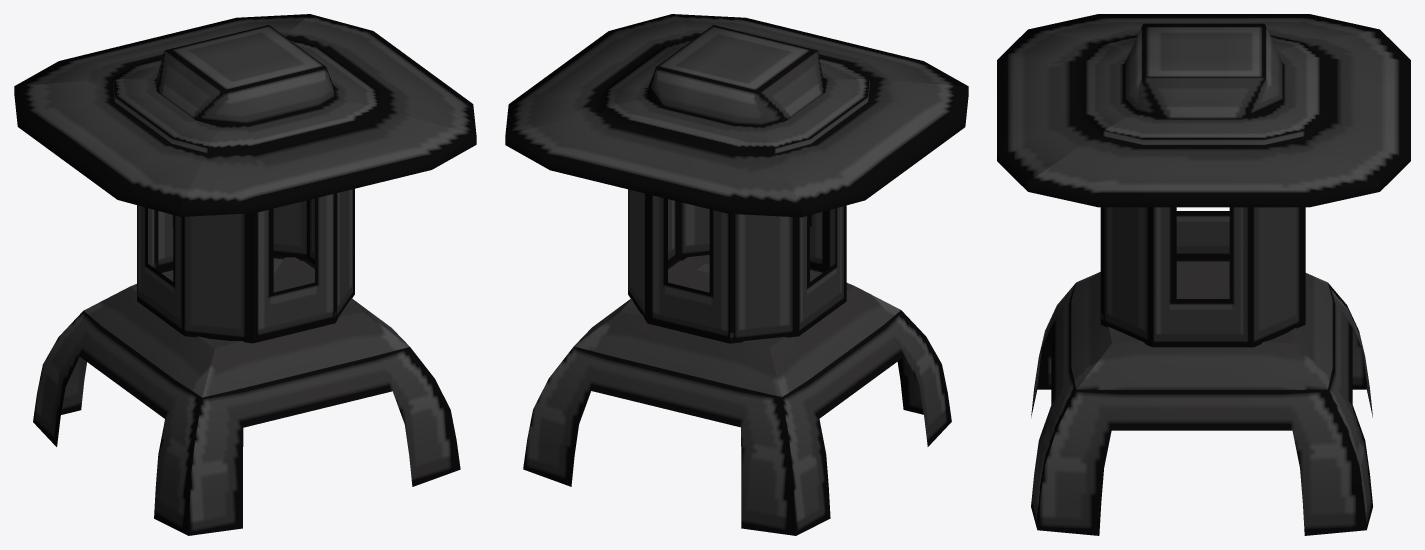
The model's file is Toro.FBX.
3 renders of one model, left to right at view 1: azimuth 30°, elevation 25°; view 2: azimuth 150°, elevation 25°; view 3: azimuth 270°, elevation 25°, orthographic. The views are drawn at different scales.
Visible parts, largest first — view 1: Box005, Box002, Box004; view 2: Box005, Box002, Box004; view 3: Box005, Box002, Box004.
Boxes of the visible parts, x1,y1,x2,y2 form: Box005: (14, 14, 476, 216); Box002: (33, 257, 460, 535); Box004: (137, 188, 354, 343); Box005: (505, 14, 968, 217); Box002: (523, 255, 951, 535); Box004: (628, 189, 846, 343); Box005: (997, 14, 1410, 207); Box002: (1031, 262, 1372, 535); Box004: (1100, 207, 1305, 347).
Bounding box in the file's own units: 52.52 × 54.94 × 50.
Materials: 1 (1 with a texture image).
